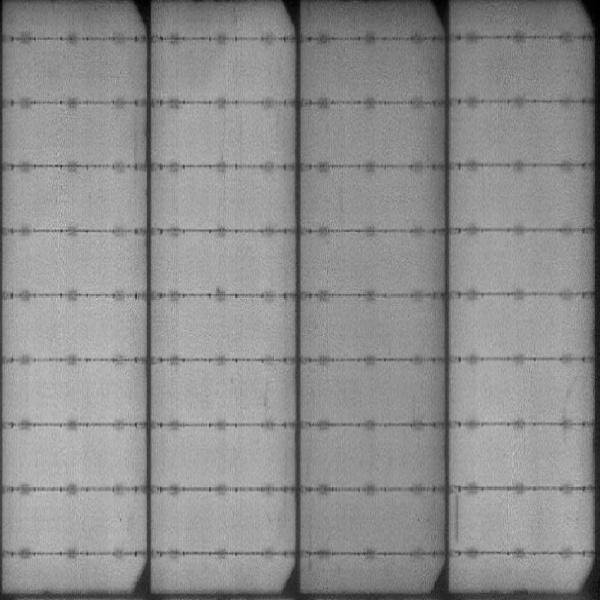scratch: (453, 496, 463, 546)
